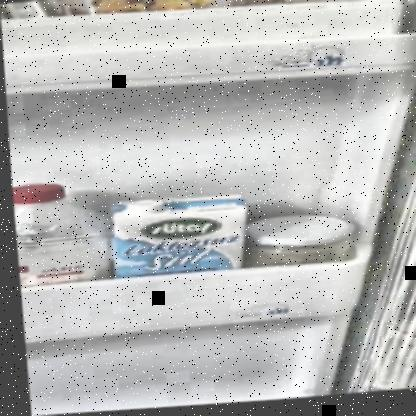milk: (108, 193, 247, 280)
